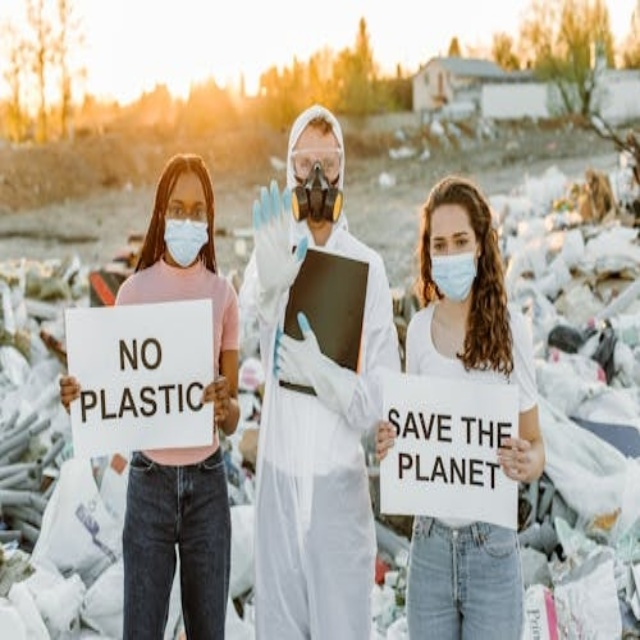Gafas: (291, 148, 344, 180), (166, 202, 208, 223)
Guantes: (281, 312, 356, 419), (250, 182, 307, 301)
Mascara: (292, 165, 343, 224), (430, 249, 479, 301), (163, 217, 209, 267)
Sin_gafas: (429, 227, 474, 254)
Sin_guantes: (501, 432, 544, 488), (205, 372, 234, 429), (375, 417, 399, 460), (59, 374, 81, 412)
